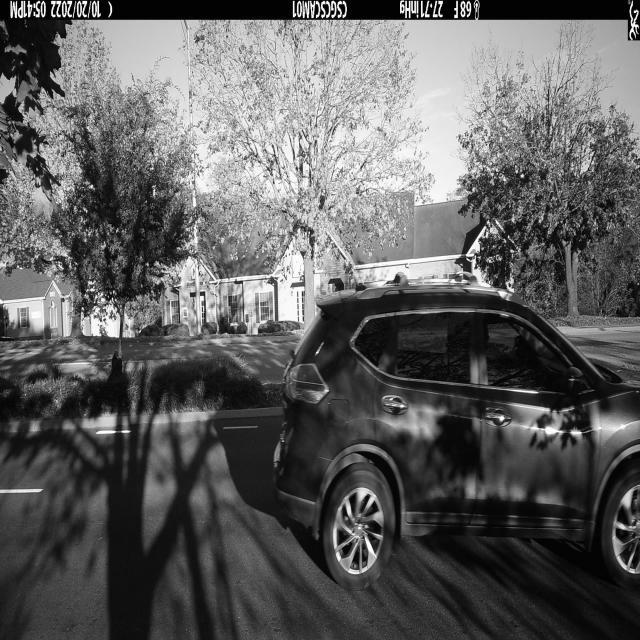SUV: (272, 275, 640, 591)
